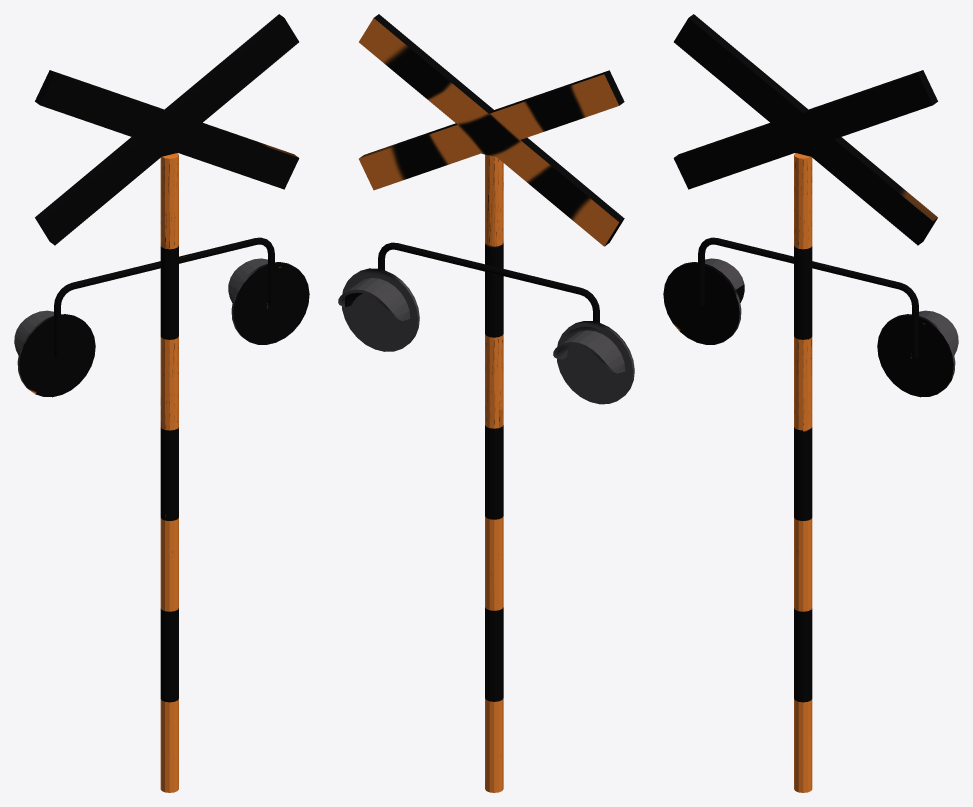
3 renders of one model, left to right at view 1: azimuth 30°, elevation 25°; view 2: azimuth 150°, elevation 25°; view 3: azimuth 330°, elevation 25°, orthographic.
Visible parts, largest first — view 1: Base 1; view 2: Base 1; view 3: Base 1.
Boxes of the visible parts, <box> form: Base 1: <box>14,14,309,792</box>; Base 1: <box>338,14,634,792</box>; Base 1: <box>663,14,958,792</box>.
Size of the model in its own units: 570 by 93.69 by 1394.
1 material, 1 textured.
